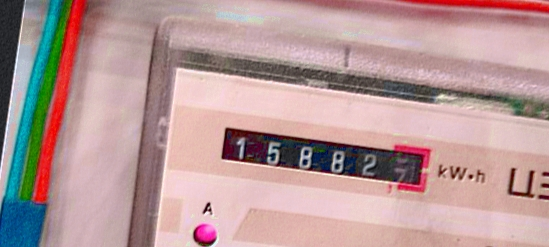1: (235, 130, 252, 161)
2: (361, 150, 382, 178)
5: (266, 137, 287, 169)
7: (394, 163, 409, 182)
8: (298, 141, 318, 171), (330, 145, 350, 175)
screen: (210, 108, 442, 201)
